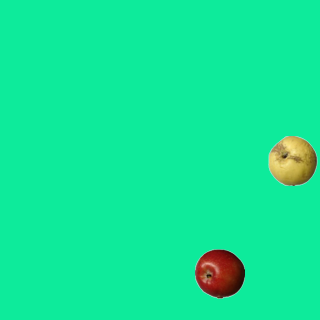Apple Braeburn: (194, 248, 244, 298)
Apple Golden 1: (267, 135, 317, 185)
